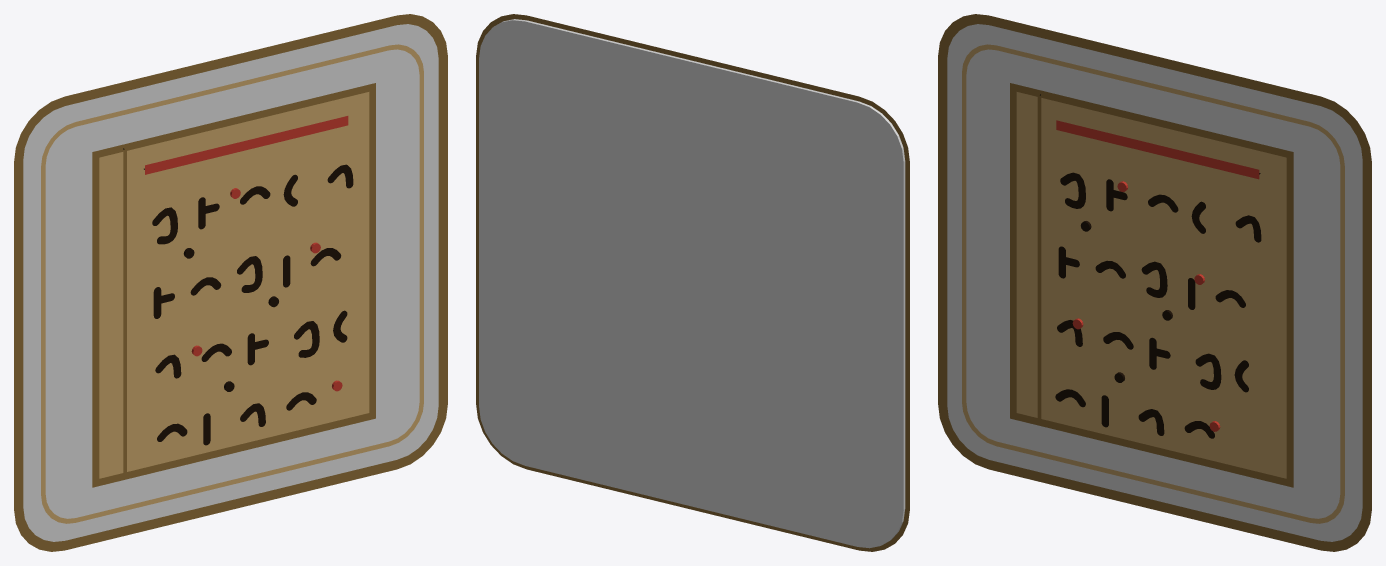
Rendered from obj-kryukovaya-notatsiya.glb.
3 views of the same model, side by side, from view 1: azimuth 30°, elevation 25°; view 2: azimuth 150°, elevation 25°; view 3: azimuth 330°, elevation 25° (orthographic).
Parts seen in each view (by area): view 1: obj-kryukovaya-notatsiya; view 2: obj-kryukovaya-notatsiya; view 3: obj-kryukovaya-notatsiya.
Boxes of the visible parts, <box> form: obj-kryukovaya-notatsiya: <box>14,14,447,551</box>; obj-kryukovaya-notatsiya: <box>476,14,909,551</box>; obj-kryukovaya-notatsiya: <box>938,14,1371,551</box>.
Bounding box in the file's own units: 0.3917 × 0.3917 × 0.04.
